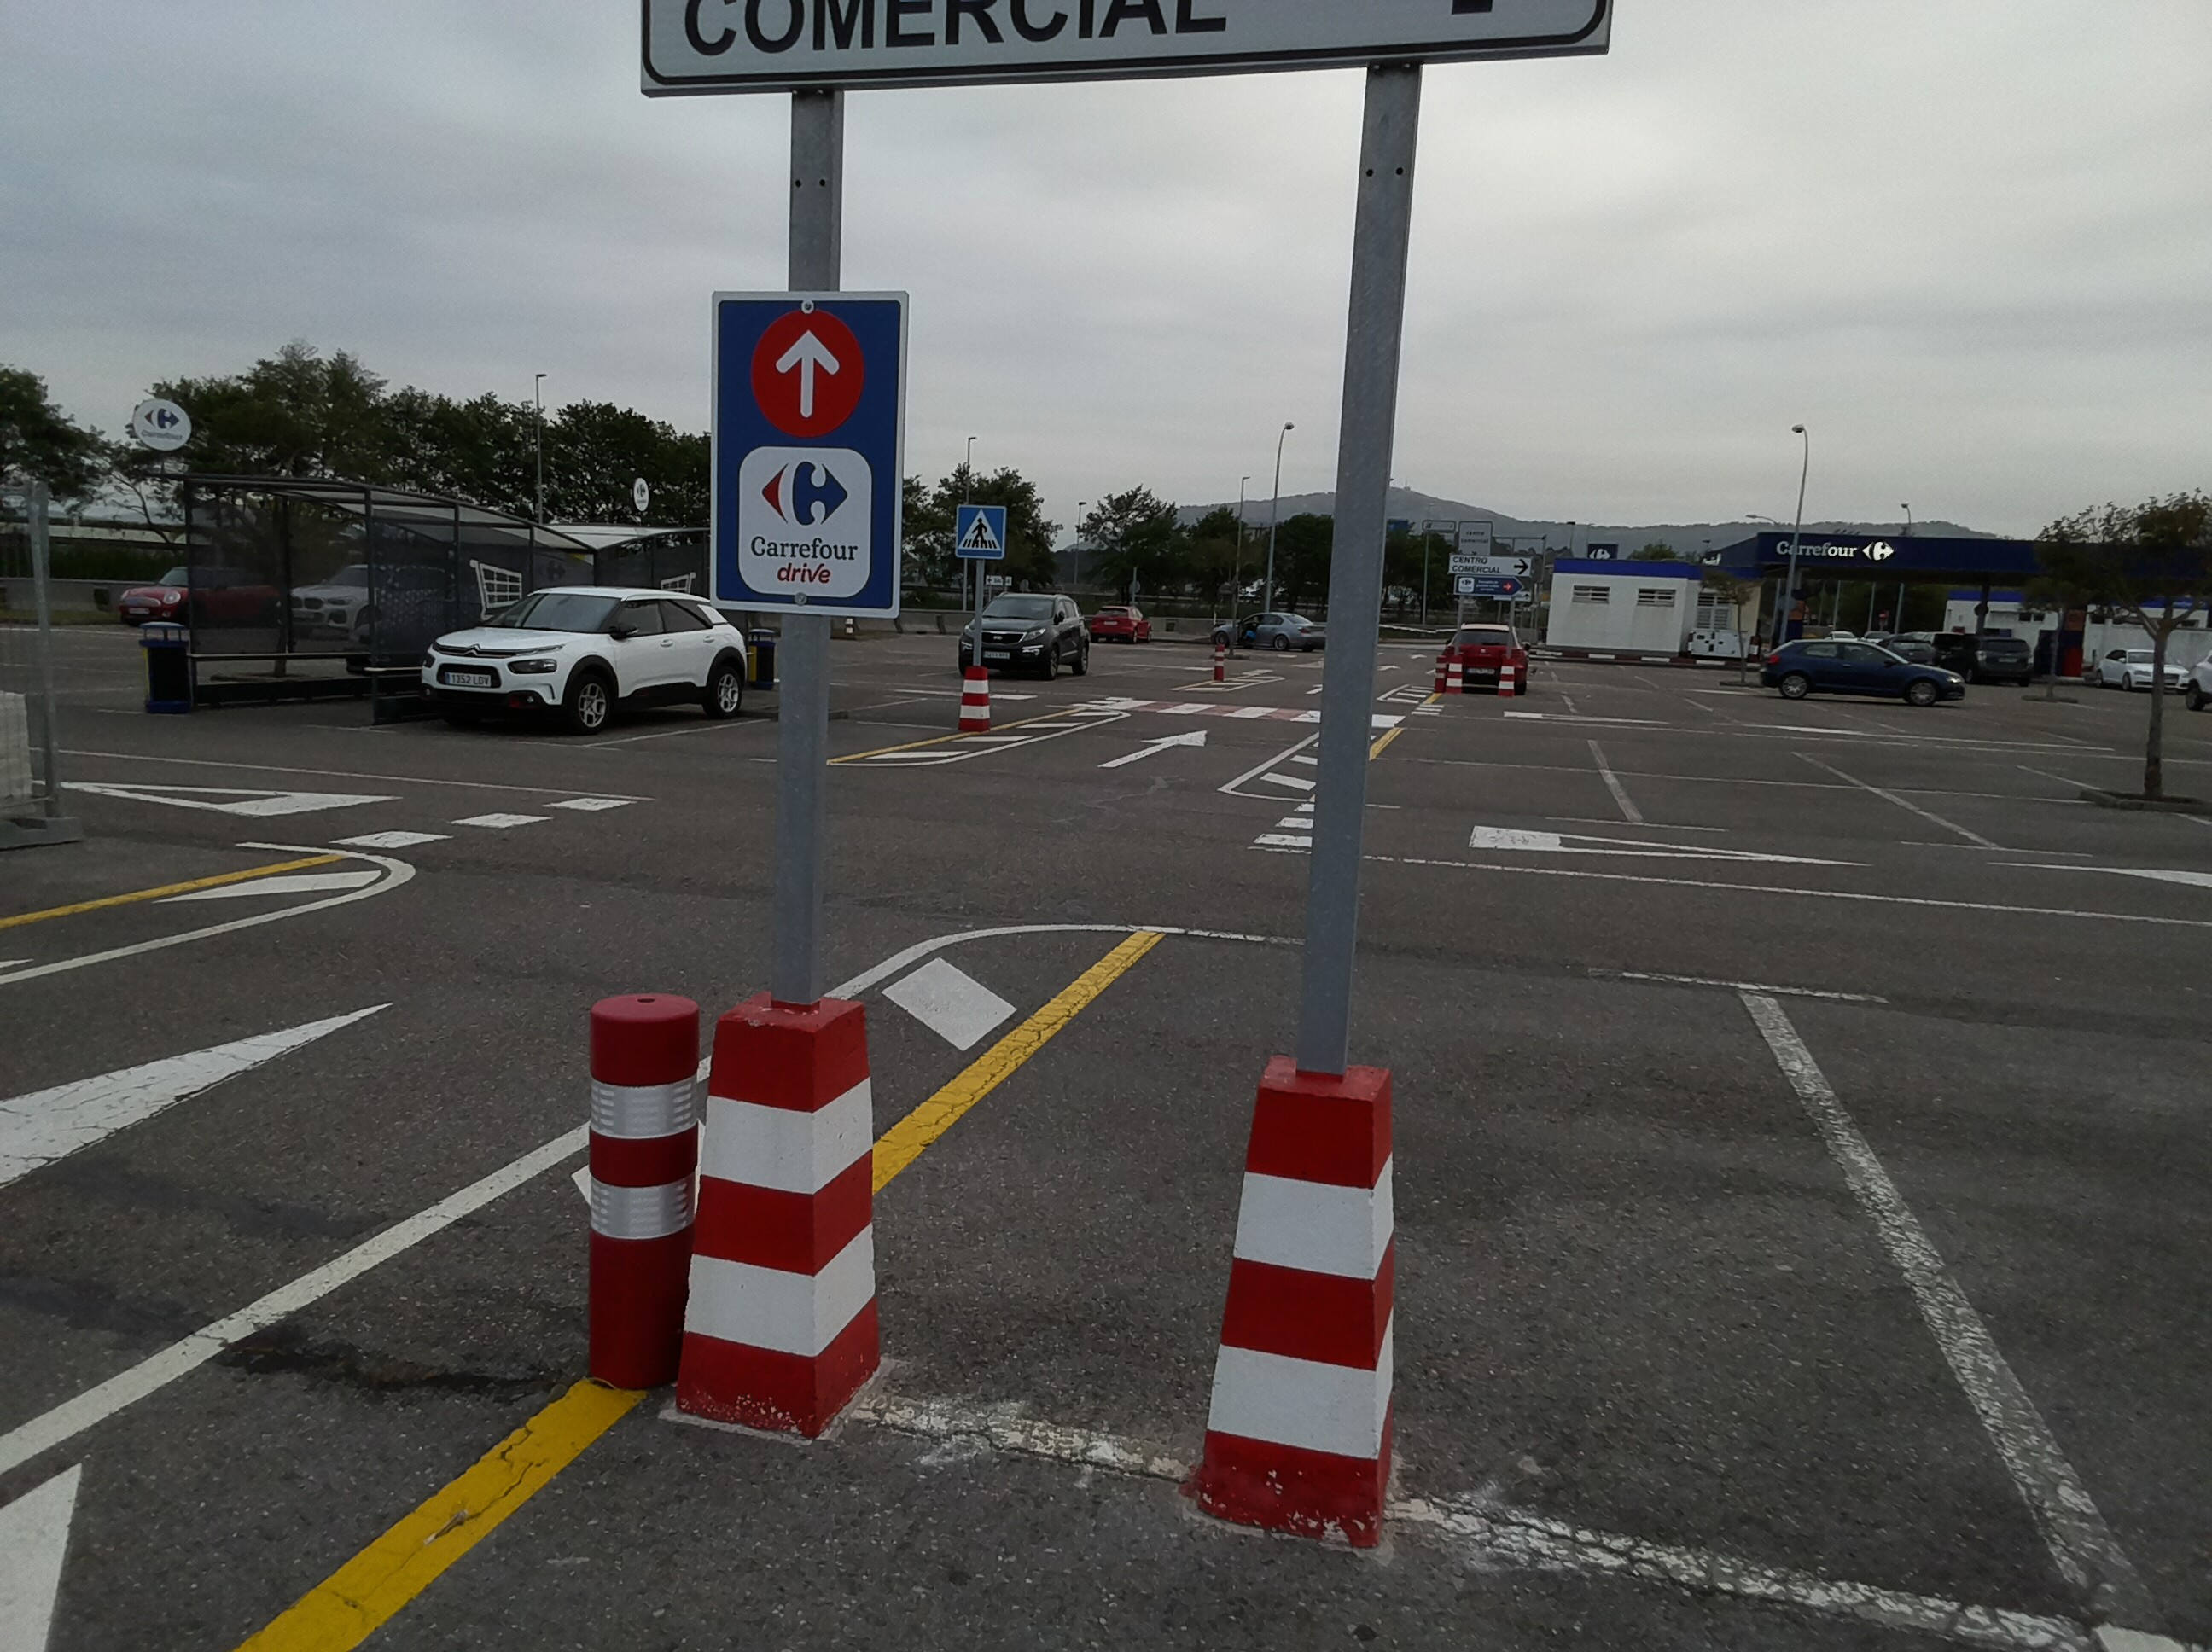Cartel: (697, 286, 916, 619)
Poste: (1280, 56, 1443, 1086), (1197, 1053, 1442, 1553), (684, 979, 906, 1444), (770, 78, 861, 1017), (566, 986, 697, 1400)
